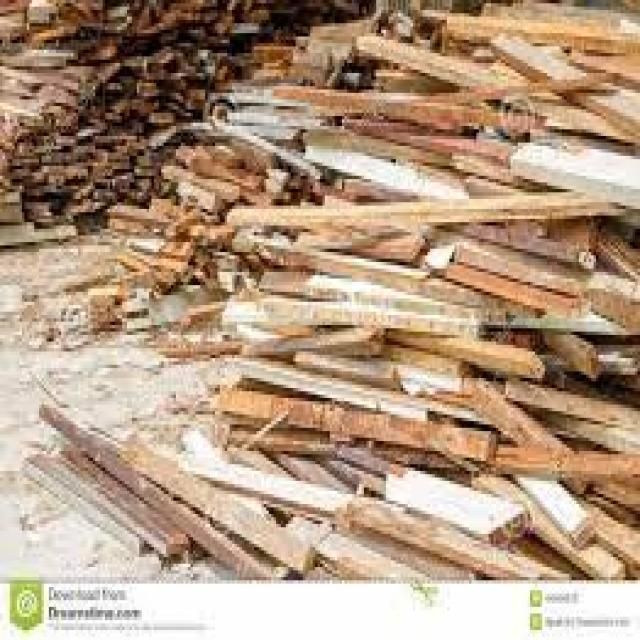green waste: (4, 0, 634, 575)
